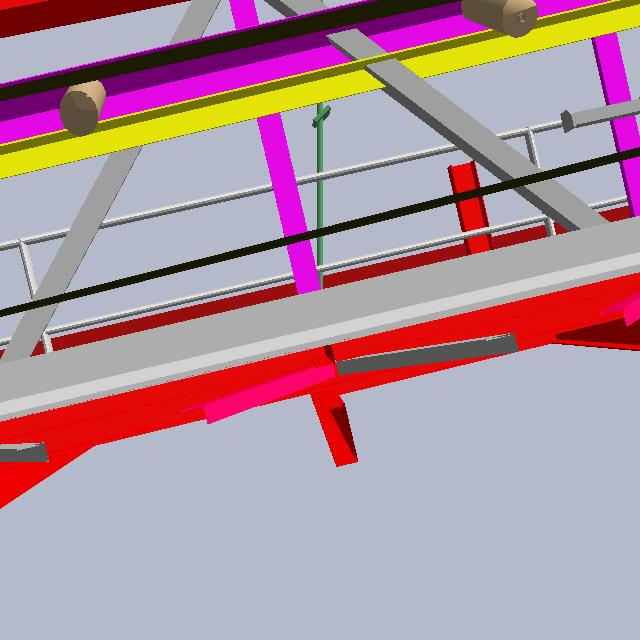Poste: (314, 83, 332, 349)
Soporte: (439, 149, 515, 329)
